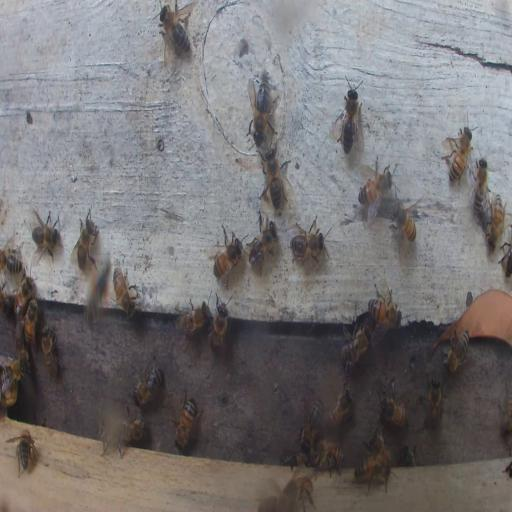nonpollenbee: (260, 146, 292, 210), (338, 79, 364, 153), (212, 225, 242, 285), (444, 124, 474, 184), (30, 206, 61, 262), (72, 208, 98, 274), (247, 216, 278, 270), (289, 218, 327, 262), (248, 75, 274, 139), (159, 4, 191, 53), (359, 163, 392, 209), (354, 453, 391, 493), (389, 196, 419, 243), (133, 361, 163, 406), (111, 264, 136, 318), (1, 353, 27, 403), (310, 438, 344, 476), (40, 324, 63, 380), (341, 325, 370, 369), (9, 428, 37, 473), (175, 396, 198, 450), (117, 403, 147, 444), (439, 330, 469, 370), (175, 301, 208, 336), (326, 384, 352, 428), (209, 298, 228, 356), (424, 375, 444, 429), (368, 298, 400, 330), (487, 192, 505, 248), (300, 400, 320, 450), (379, 392, 407, 427), (290, 474, 316, 510), (473, 158, 489, 216), (12, 272, 34, 313), (432, 327, 460, 356), (24, 298, 38, 350), (501, 228, 512, 276), (1, 249, 22, 274), (368, 432, 386, 458), (398, 443, 418, 465), (281, 452, 303, 468)
pollenbee: (86, 262, 112, 307)
